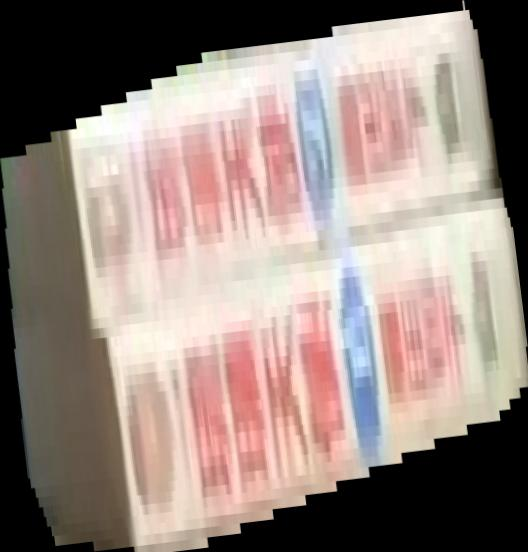flat: (1, 1, 528, 552)
